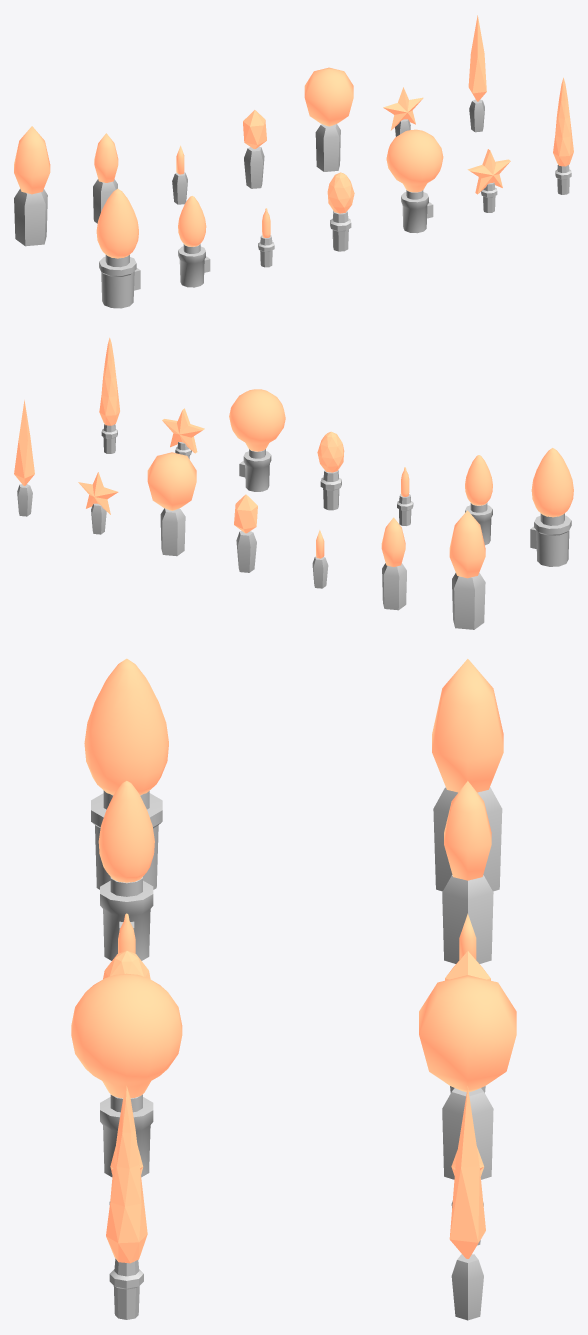
The model's file is christmas_lights.glb.
The picture shows the model from 3 angles, top to bottom: view 1: azimuth 30°, elevation 25°; view 2: azimuth 150°, elevation 25°; view 3: azimuth 270°, elevation 25°; orthographic projection. The views are drawn at different scales.
Visible parts, largest first — view 1: bulb_c9, bulb_globe, bulb_c9_lo, bulb_globe_lo, bulb_c7, bulb_icicle, bulb_faceted, bulb_c7_lo, bulb_icicle_lo, bulb_faceted_lo, bulb_star, bulb_star_lo (+2 smaller); view 2: bulb_c9, bulb_globe, bulb_c9_lo, bulb_globe_lo, bulb_c7_lo, bulb_c7, bulb_icicle, bulb_faceted, bulb_icicle_lo, bulb_faceted_lo, bulb_star_lo, bulb_star (+2 smaller); view 3: bulb_globe, bulb_globe_lo, bulb_c9, bulb_c9_lo, bulb_c7, bulb_c7_lo, bulb_icicle, bulb_icicle_lo, bulb_faceted.
Part boxes in pixels (bbox=[...]): bulb_c9: bbox=[96, 188, 140, 308]; bulb_globe: bbox=[386, 129, 443, 233]; bulb_c9_lo: bbox=[14, 126, 50, 246]; bulb_globe_lo: bbox=[304, 67, 353, 171]; bulb_c7: bbox=[178, 196, 210, 287]; bulb_icicle: bbox=[553, 77, 573, 194]; bulb_faceted: bbox=[327, 172, 354, 251]; bulb_c7_lo: bbox=[93, 133, 118, 223]; bulb_icicle_lo: bbox=[468, 15, 486, 132]; bulb_faceted_lo: bbox=[243, 110, 266, 188]; bulb_star: bbox=[467, 149, 510, 212]; bulb_star_lo: bbox=[383, 87, 423, 136]; bulb_c9: bbox=[530, 448, 573, 566]; bulb_globe: bbox=[229, 389, 285, 491]; bulb_c9_lo: bbox=[449, 510, 485, 629]; bulb_globe_lo: bbox=[147, 452, 196, 556]; bulb_c7_lo: bbox=[381, 517, 406, 610]; bulb_c7: bbox=[465, 455, 492, 545]; bulb_icicle: bbox=[99, 337, 119, 453]; bulb_faceted: bbox=[317, 431, 344, 510]; bulb_icicle_lo: bbox=[14, 400, 34, 516]; bulb_faceted_lo: bbox=[234, 494, 257, 572]; bulb_star_lo: bbox=[78, 472, 118, 534]; bulb_star: bbox=[162, 408, 204, 458]; bulb_globe: bbox=[71, 973, 182, 1177]; bulb_globe_lo: bbox=[419, 975, 516, 1179]; bulb_c9: bbox=[84, 658, 168, 889]; bulb_c9_lo: bbox=[432, 659, 503, 891]; bulb_c7: bbox=[98, 781, 154, 960]; bulb_c7_lo: bbox=[442, 781, 493, 963]; bulb_icicle: bbox=[106, 1086, 147, 1319]; bulb_icicle_lo: bbox=[449, 1086, 485, 1320]; bulb_faceted: bbox=[103, 950, 150, 979].
Size of the model in its own units: 0.3817 by 0.0905 by 0.1567.
